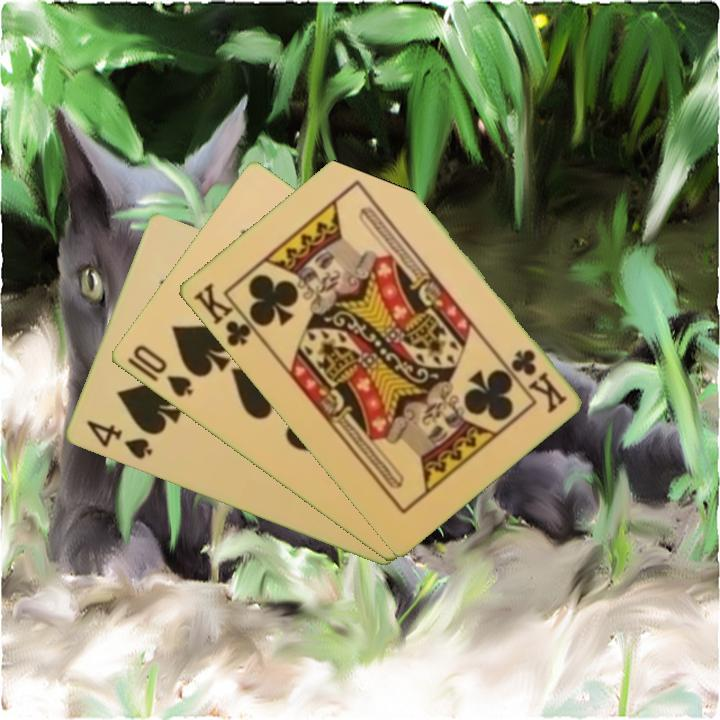10s: (128, 341, 196, 401)
4s: (82, 416, 155, 463)
Kc: (189, 279, 262, 350), (507, 345, 570, 415)
